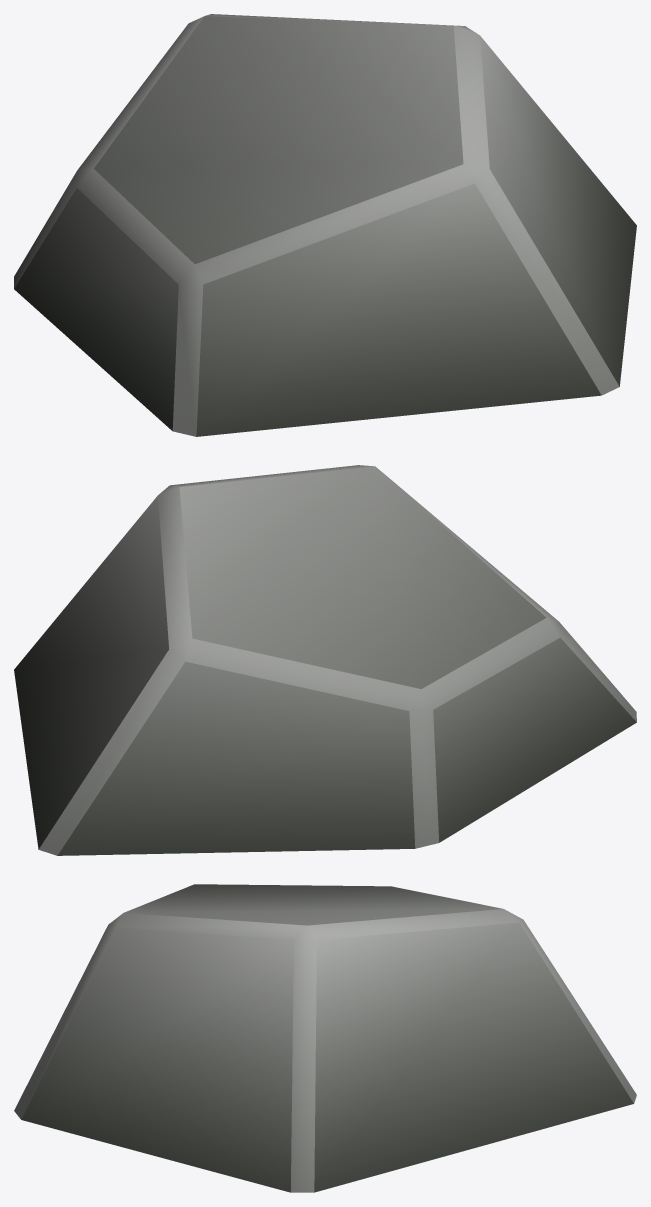
The model's file is Rock-1-5.fbx.
The picture shows the model from 3 angles, top to bottom: view 1: azimuth 30°, elevation 25°; view 2: azimuth 150°, elevation 25°; view 3: azimuth 270°, elevation 25°; orthographic projection. The views are drawn at different scales.
Parts seen in each view (by area): view 1: Rock-1-5; view 2: Rock-1-5; view 3: Rock-1-5.
Part boxes in pixels (box(x1,y1,x2,y2)): Rock-1-5: box(14, 14, 636, 436); Rock-1-5: box(14, 465, 636, 855); Rock-1-5: box(14, 884, 636, 1192).
Bounding box in the file's own units: 164 × 65.96 × 190.
